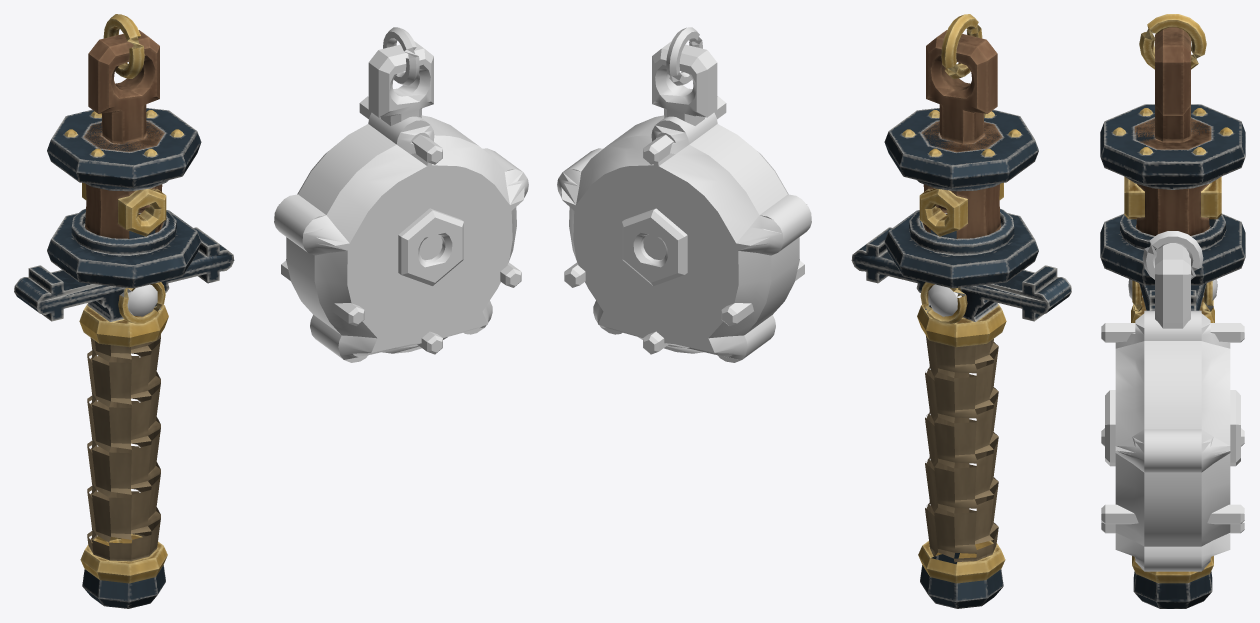
The model's file is Anchorline.fbx.
The picture shows the model from 3 angles, left to right: view 1: azimuth 30°, elevation 25°; view 2: azimuth 150°, elevation 25°; view 3: azimuth 270°, elevation 25°; orthographic projection.
Visible parts, largest first — view 1: Anchorline_Body, HeadWeight, TopLug.001, HeadBoss, TopRing.001, HeadRivet1, Anchorline_Glow; view 2: Anchorline_Body, HeadWeight, TopLug.001, HeadBoss, TopRing.001, HeadRivet1, Anchorline_Glow; view 3: Anchorline_Body, HeadWeight, TopLug.001, HeadBoss, TopRing.001, HeadRivet5, HeadRivet1, HeadRivet4.
Part boxes in pixels (bbox=[...]): Anchorline_Body: bbox=[14, 14, 234, 608]; HeadWeight: bbox=[274, 112, 528, 362]; TopLug.001: bbox=[368, 41, 433, 125]; HeadBoss: bbox=[398, 208, 463, 285]; TopRing.001: bbox=[383, 27, 419, 85]; HeadRivet1: bbox=[359, 96, 442, 164]; Anchorline_Glow: bbox=[127, 284, 157, 316]; Anchorline_Body: bbox=[851, 14, 1071, 608]; HeadWeight: bbox=[557, 112, 811, 362]; TopLug.001: bbox=[652, 41, 717, 125]; HeadBoss: bbox=[622, 208, 687, 285]; TopRing.001: bbox=[666, 27, 702, 85]; HeadRivet1: bbox=[643, 96, 726, 164]; Anchorline_Glow: bbox=[928, 284, 961, 316]; Anchorline_Body: bbox=[1100, 14, 1245, 608]; HeadWeight: bbox=[1115, 310, 1230, 571]; TopLug.001: bbox=[1155, 243, 1190, 328]; HeadBoss: bbox=[1105, 390, 1240, 466]; TopRing.001: bbox=[1142, 231, 1203, 279]; HeadRivet5: bbox=[1101, 504, 1244, 524]; HeadRivet1: bbox=[1101, 323, 1244, 342]; HeadRivet4: bbox=[1101, 521, 1244, 533].
Bounding box in the file's own units: 1.59 × 1.8 × 0.4054.
